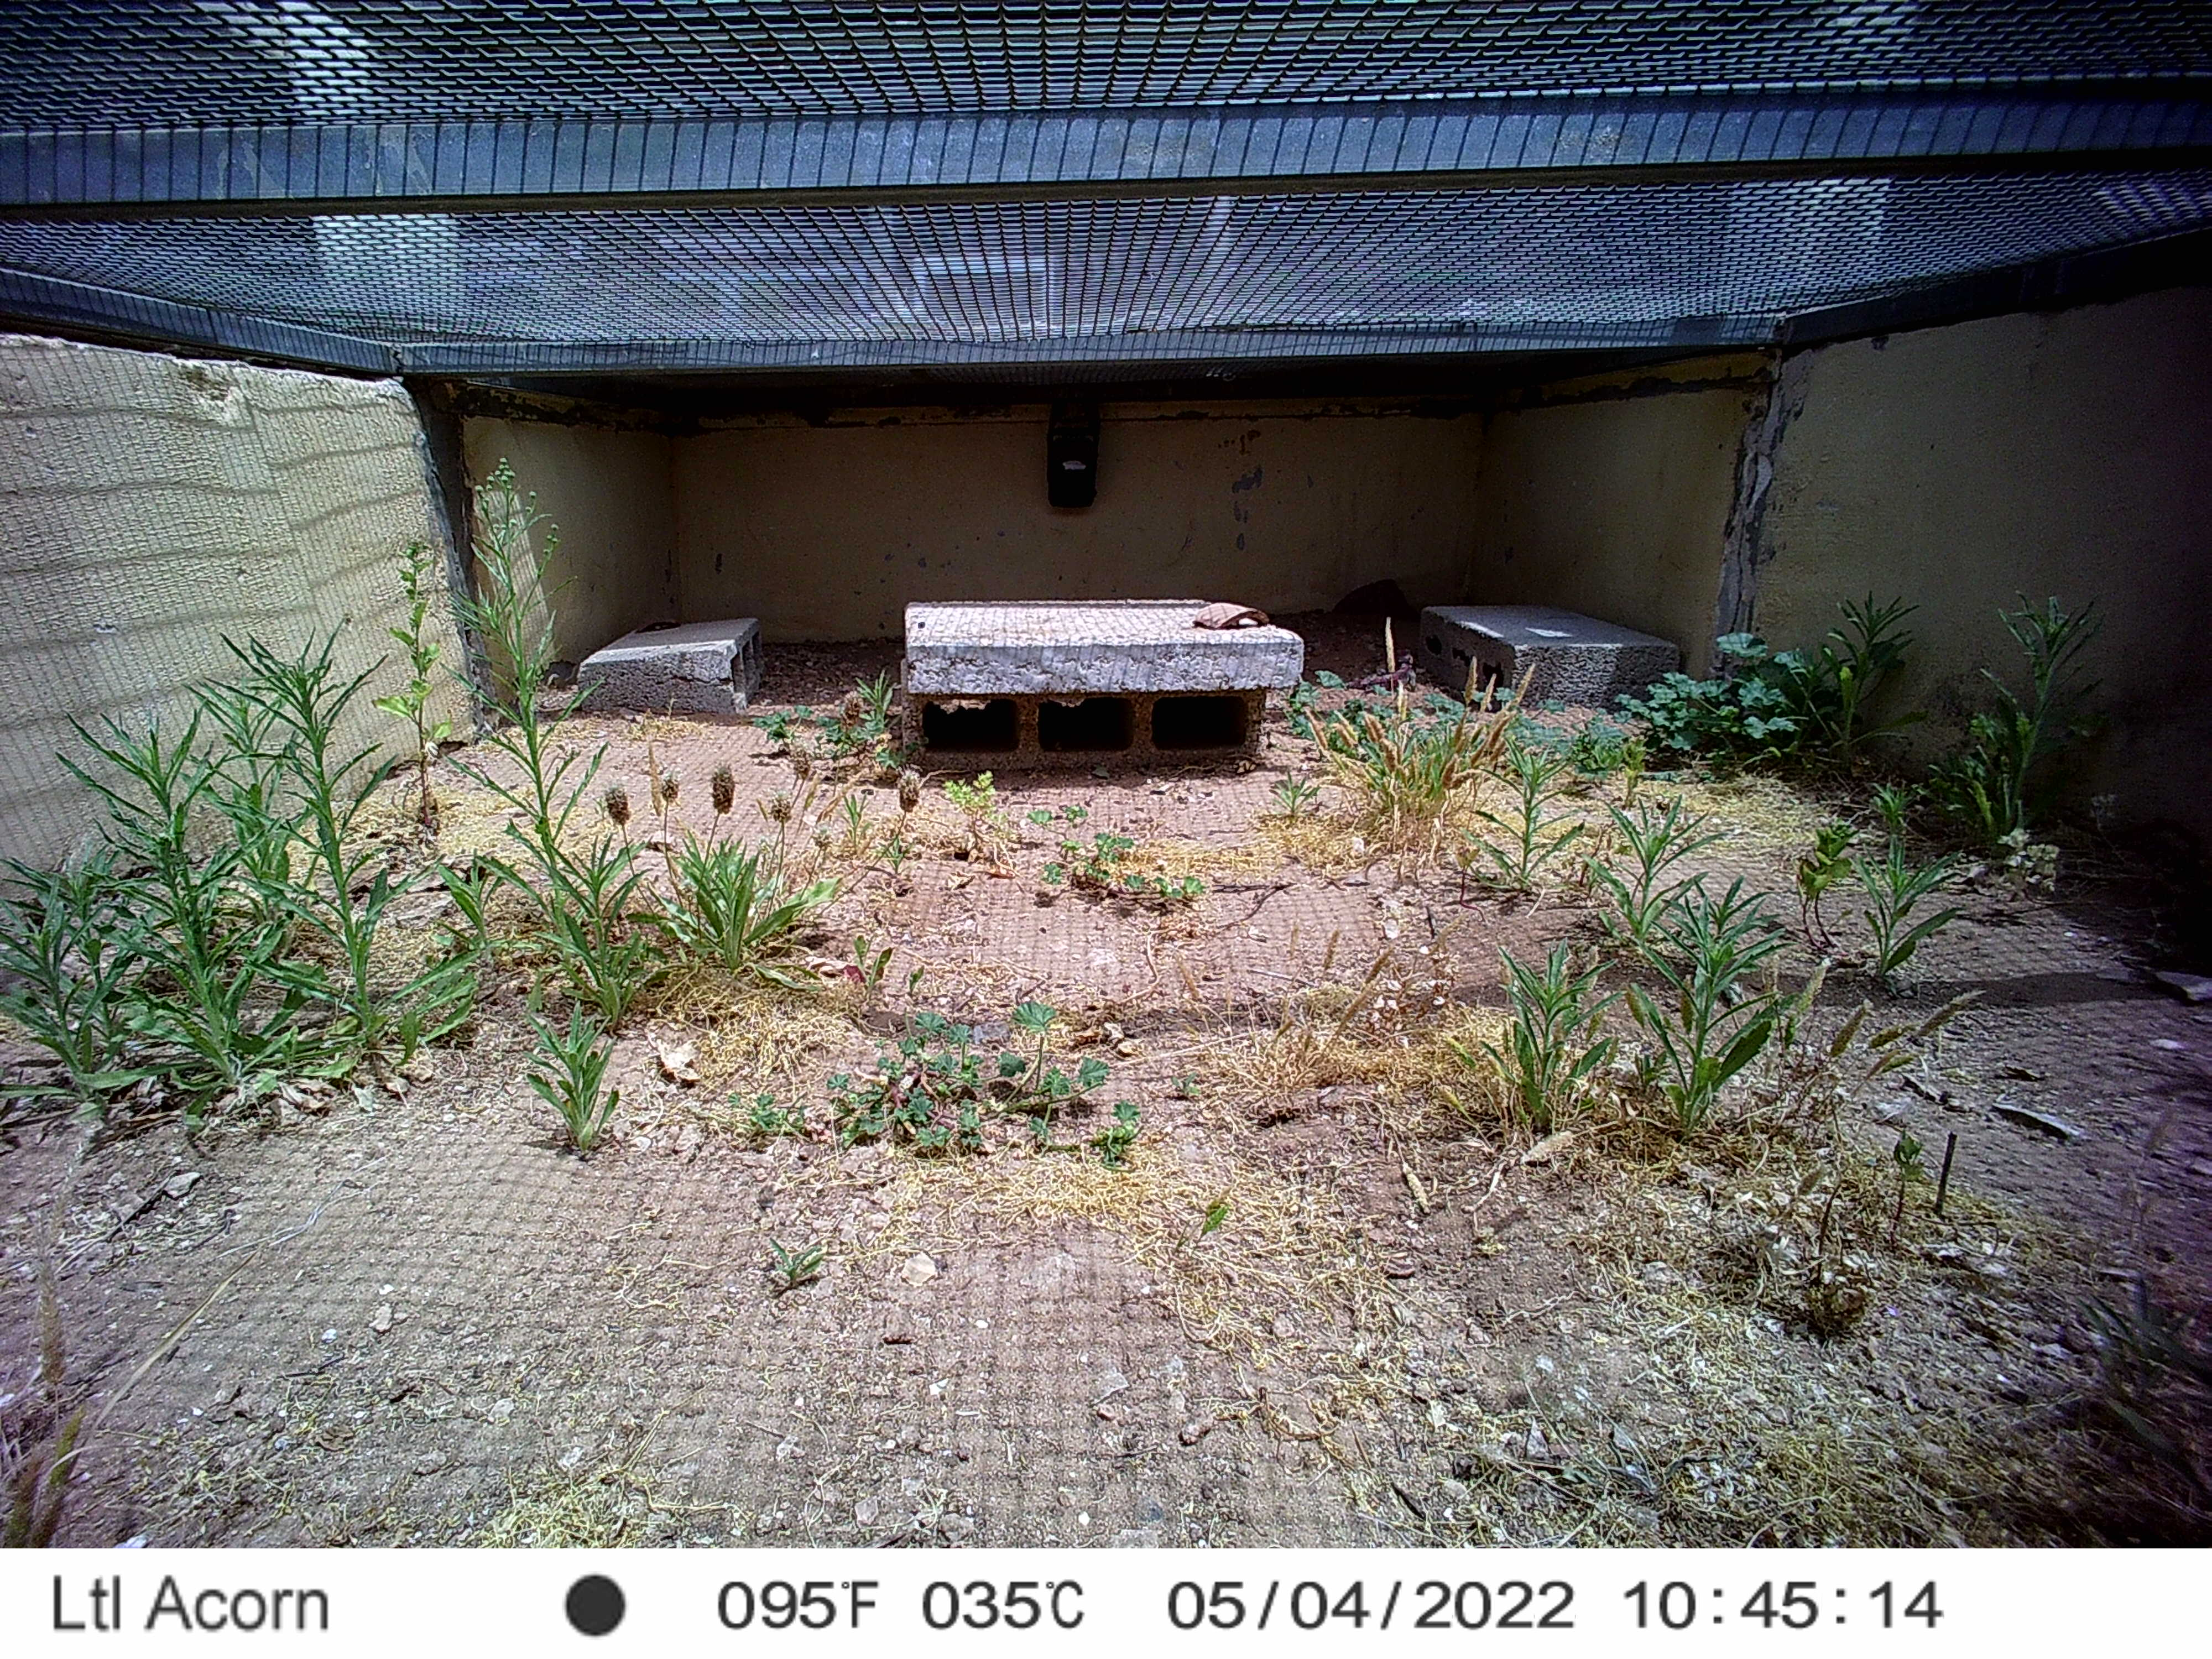lizard: (1334, 647, 1426, 702)
